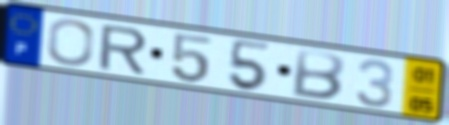3: (354, 58, 396, 109)
5: (226, 36, 271, 93), (169, 30, 215, 84)
B: (288, 46, 347, 102)
O: (45, 17, 96, 67)
R: (96, 23, 150, 76)
